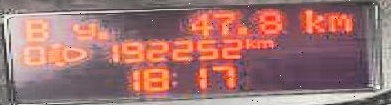-: (231, 24, 249, 35), (93, 29, 108, 39)
0: (22, 44, 44, 65)
1: (193, 65, 206, 89), (129, 67, 140, 91), (106, 41, 117, 64)
2: (168, 39, 193, 60), (144, 39, 168, 60), (220, 38, 242, 58)
4: (186, 11, 211, 35)
5: (193, 39, 217, 59)
7: (210, 11, 235, 35), (210, 64, 235, 88)
8: (140, 66, 169, 90), (255, 9, 282, 34)
9: (120, 40, 142, 62)
X: (22, 17, 51, 41), (299, 7, 324, 31), (324, 12, 350, 31), (68, 20, 93, 39), (169, 70, 180, 85), (255, 39, 273, 48), (242, 36, 253, 49)
